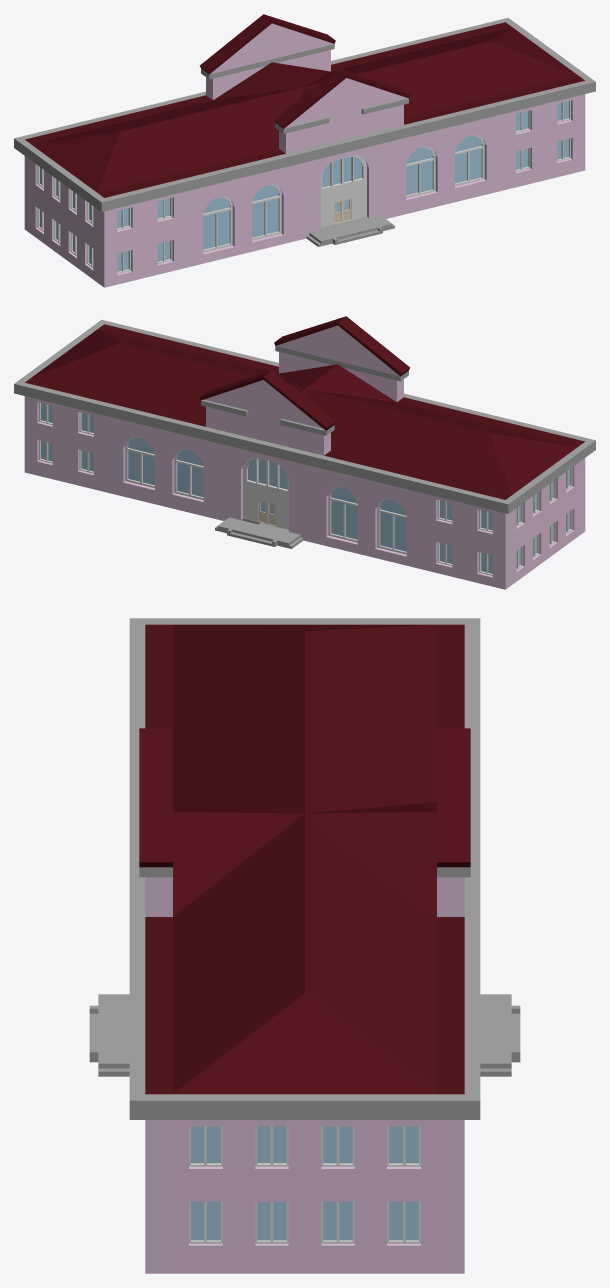
Rendered from ЖД вокзал.fbx.
3 renders of one model, top to bottom at view 1: azimuth 30°, elevation 25°; view 2: azimuth 150°, elevation 25°; view 3: azimuth 270°, elevation 25°, orthographic. The views are drawn at different scales.
Parts seen in each view (by area): view 1: Cube; view 2: Cube; view 3: Cube.
Part boxes in pixels (bbox=[...]): Cube: bbox=[14, 14, 595, 287]; Cube: bbox=[14, 316, 595, 589]; Cube: bbox=[89, 618, 520, 1273].
Bounding box in the file's own units: 13138 × 3946 × 4958.
